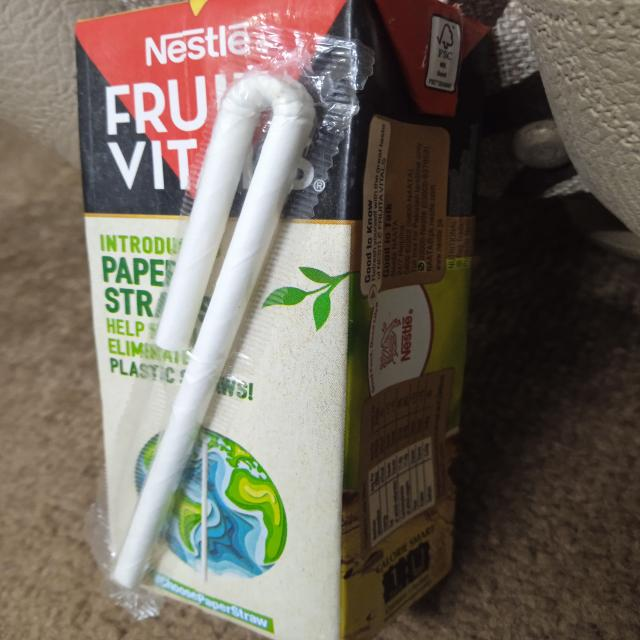Plastic: (61, 1, 504, 640)
